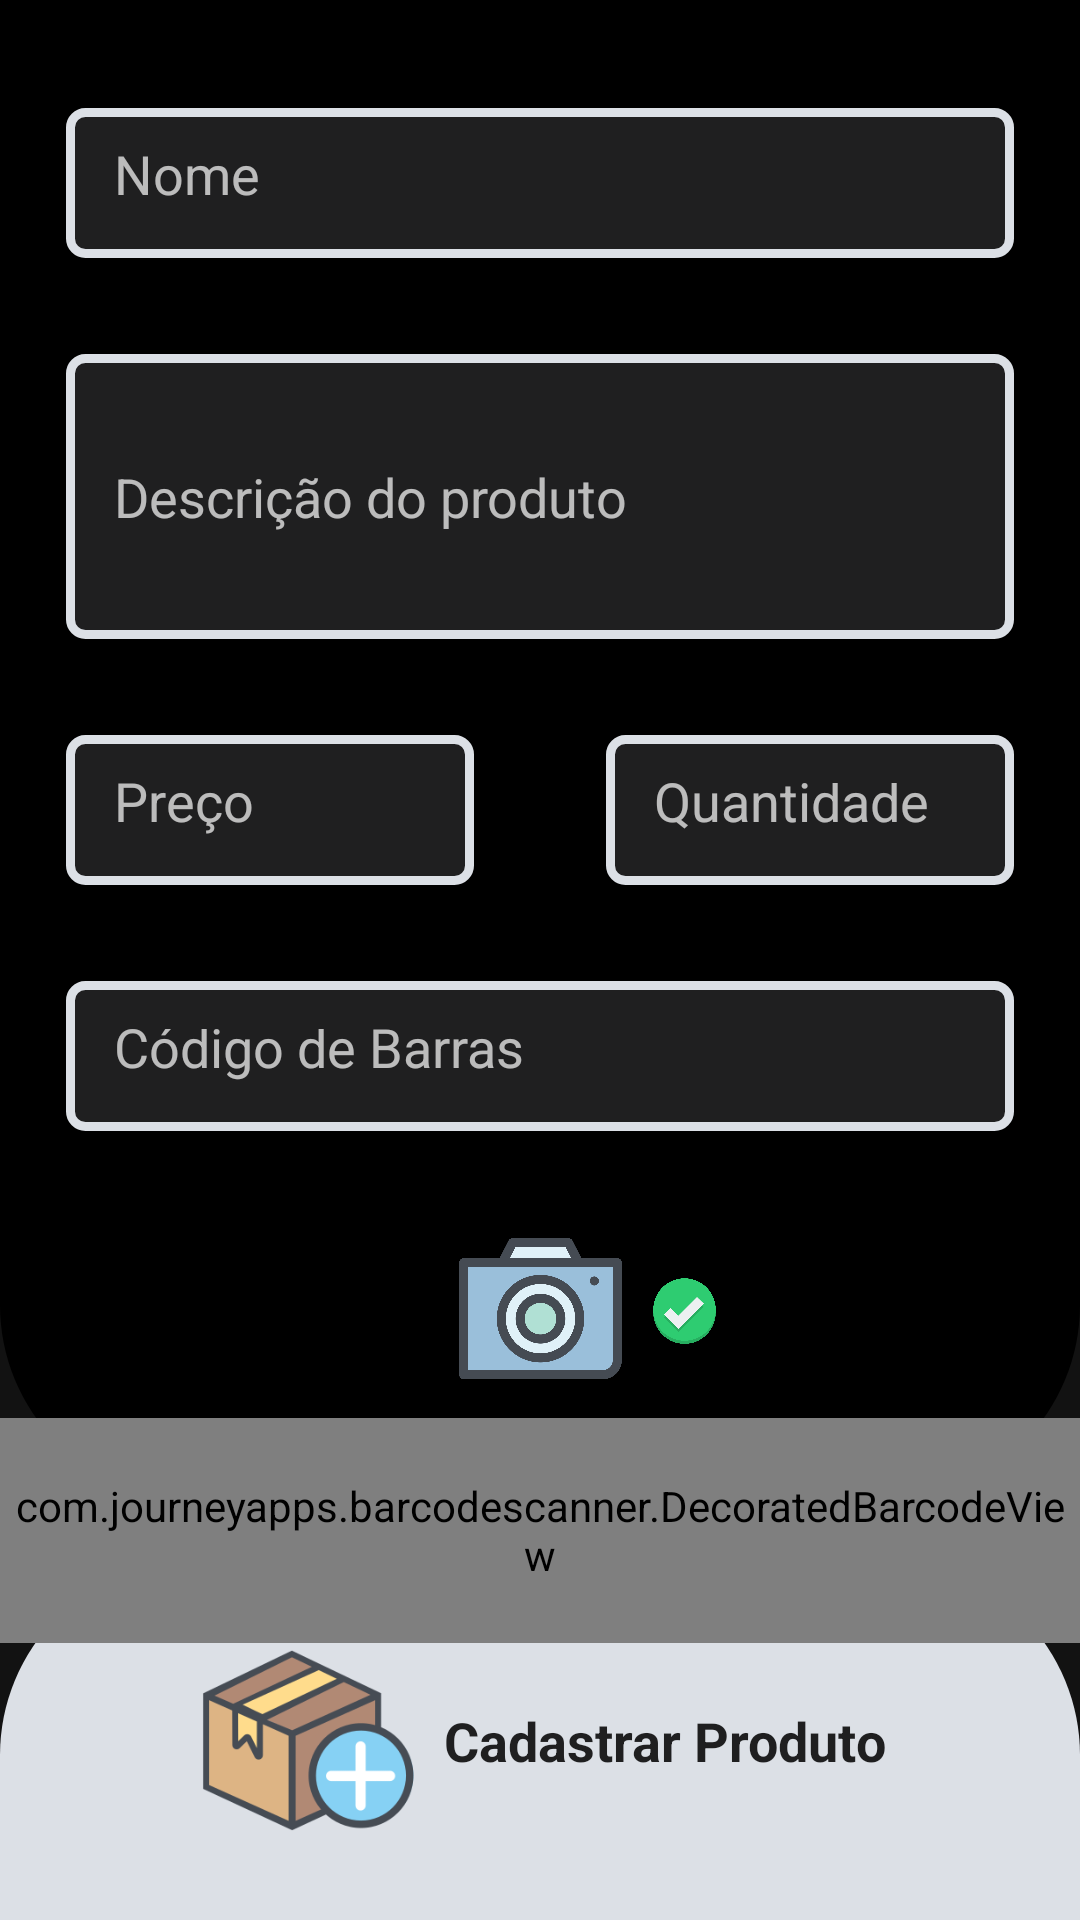

Point at icon controls on the screen. Image size 1080*1920, points as [x,y].
boxadd: [308,1740]
cam: [540,1308]
check: [684,1311]
